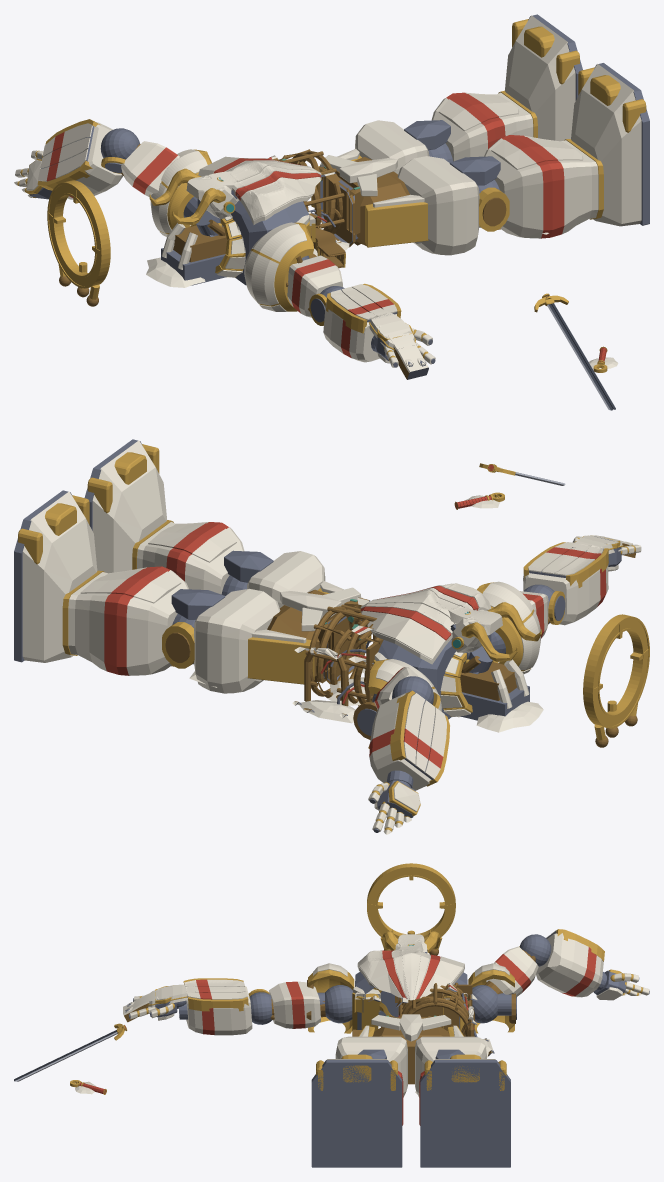
Rendered from titan.glb.
3 views of the same model, one above another, from view 1: azimuth 30°, elevation 25°; view 2: azimuth 150°, elevation 25°; view 3: azimuth 270°, elevation 25° (orthographic). The views are drawn at different scales.
Visible parts, largest first — view 1: titan/shin.R/greave-side-shell, titan/foot.R/foot-shell, titan/thigh.R/thigh-armour, titan/foot.L/foot-shell, titan/shin.L/greave-side-shell, titan/pelvis/hip-skirt-trim-R, titan/halo/main-ring, titan/thigh.L/thigh-armour, titan/upper_arm.R/upper-arm-armour, titan/upper_arm.L/upper-arm-armour, titan/shin.R/greave-armour, titan/shin.L/greave-armour (+34 smaller); view 2: titan/shin.L/greave-side-shell, titan/foot.L/foot-shell, titan/thigh.L/thigh-armour, titan/foot.R/foot-shell, titan/shin.R/greave-side-shell, titan/thigh.R/thigh-armour, titan/pelvis/hip-skirt-trim-L, titan/halo/main-ring, titan/forearm.L/forearm-armour, titan/forearm.R/forearm-armour, titan/shin.L/greave-armour, titan/shin.R/greave-armour (+38 smaller); view 3: titan/foot.R/sole, titan/foot.L/sole, titan/forearm.L/forearm-armour, titan/upper_arm.R/upper-arm-armour, titan/forearm.R/forearm-armour, titan/halo/main-ring, titan/thigh.L/thigh-armour, titan/thigh.R/thigh-armour, titan/upper_arm.L/upper-arm-armour, titan/upper_arm.R/shoulder-gimbal, titan/chest/breastplate-R-4, titan/shoulder.R/pauldron-shell (+18 smaller).
Boxes of the visible parts, x1,y1,x2,y2 form: titan/shin.R/greave-side-shell: (484, 135, 598, 238); titan/foot.R/foot-shell: (571, 64, 641, 226); titan/thigh.R/thigh-armour: (397, 156, 479, 255); titan/foot.L/foot-shell: (505, 15, 575, 141); titan/shin.L/greave-side-shell: (431, 92, 533, 161); titan/pelvis/hip-skirt-trim-R: (365, 202, 428, 247); titan/halo/main-ring: (49, 181, 109, 287); titan/thigh.L/thigh-armour: (355, 120, 429, 174); titan/upper_arm.R/upper-arm-armour: (287, 255, 342, 317); titan/upper_arm.L/upper-arm-armour: (121, 141, 179, 196); titan/shin.R/greave-armour: (491, 136, 583, 169); titan/shin.L/greave-armour: (438, 94, 519, 131); titan/shin.L/greave-side-shell: (68, 566, 188, 675); titan/foot.L/foot-shell: (22, 491, 97, 662); titan/thigh.L/thigh-armour: (194, 588, 280, 693); titan/foot.R/foot-shell: (92, 440, 166, 573); titan/shin.R/greave-side-shell: (137, 521, 244, 594); titan/thigh.R/thigh-armour: (247, 551, 325, 607); titan/pelvis/hip-skirt-trim-L: (247, 637, 314, 684); titan/halo/main-ring: (584, 614, 647, 727); titan/forearm.L/forearm-armour: (369, 693, 431, 790); titan/forearm.R/forearm-armour: (523, 565, 608, 625); titan/shin.L/greave-armour: (80, 568, 181, 603); titan/shin.R/greave-armour: (148, 523, 236, 562); titan/foot.R/sole: (311, 1060, 402, 1167); titan/foot.L/sole: (420, 1060, 510, 1167); titan/forearm.L/forearm-armour: (536, 933, 603, 997); titan/upper_arm.R/upper-arm-armour: (269, 981, 320, 1028); titan/forearm.R/forearm-armour: (186, 986, 252, 1035); titan/halo/main-ring: (367, 863, 455, 938); titan/thigh.L/thigh-armour: (415, 1036, 486, 1097); titan/thigh.R/thigh-armour: (335, 1036, 407, 1097); titan/upper_arm.L/upper-arm-armour: (486, 946, 538, 996); titan/upper_arm.R/shoulder-gimbal: (325, 985, 352, 1023); titan/chest/breastplate-R-4: (358, 950, 402, 997); titan/shoulder.R/pauldron-shell: (308, 969, 354, 1033).
Bounding box in the file's own units: 1621 × 387 × 2108.
